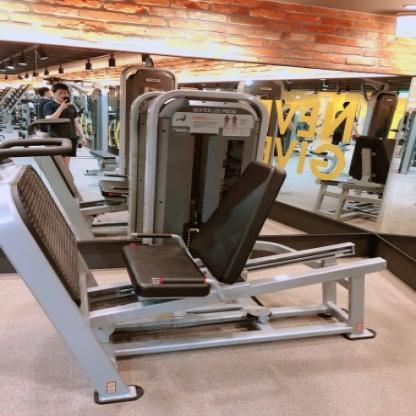leg press: (0, 85, 416, 416)
